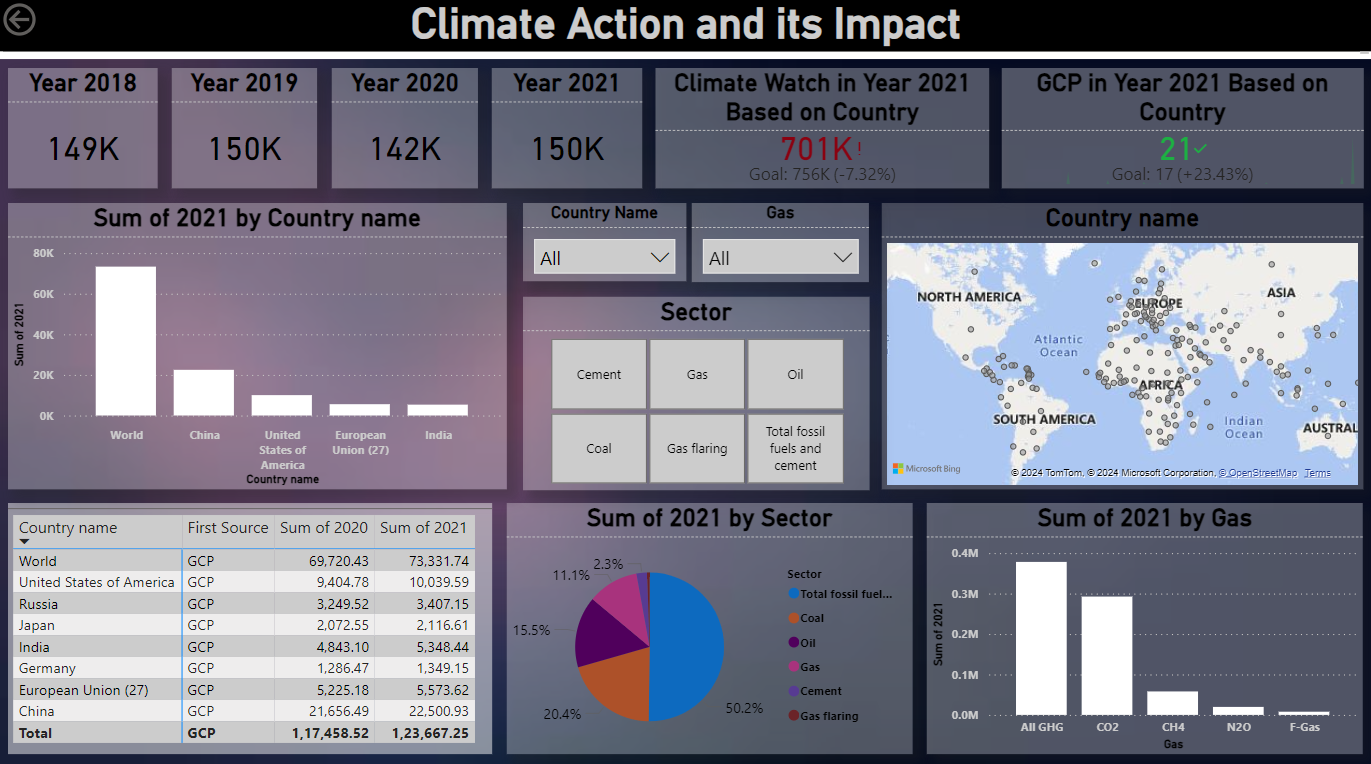

Layout of this report page (visuals, bound fields, positions):
{"tool":"powerbi","page":{"name":"Page 1","canvas":[1280,720],"ordinal":0},"visuals":[{"type":"card","title":"Year 2018","fields":{"Values":["Sum(GCP.2018)"]},"box":[9.4,65.5,139.3,112.2],"z":0},{"type":"card","title":"Year 2019","fields":{"Values":["Sum(GCP.2019)"]},"box":[162.1,65.5,135.1,112.2],"z":1000},{"type":"card","title":"Year 2020","fields":{"Values":["Sum(GCP.2020)"]},"box":[310.7,65.5,136.1,112.2],"z":2000},{"type":"card","title":"Year 2021","fields":{"Values":["Sum(GCP.2021)"]},"box":[459.4,65.5,140.3,112.2],"z":3000},{"type":"map","fields":{"Category":["GCP.Country name"]},"box":[822.1,191.2,447.9,266.1],"z":4000},{"type":"slicer","title":"Country Name","fields":{"Values":["GCP.Country name"]},"box":[488.5,190.2,151.7,72.7],"z":5000},{"type":"slicer","title":"Sector","fields":{"Values":["GCP.Sector"]},"box":[488.5,277.5,322.2,179.8],"z":6000},{"type":"textbox","title":"Climate  Action and its Impact","box":[0,0,1280.2,57],"z":7000},{"type":"pieChart","fields":{"Category":["GCP.Sector"],"Y":["Sum(GCP.2021)"]},"box":[472.9,469.7,377.3,233.8],"z":8000},{"type":"pivotTable","fields":{"Rows":["GCP.Country name"],"Values":["Min(GCP.Source)","Sum(GCP.2020)","Sum(GCP.2021)"]},"box":[9.4,469.7,450,233.8],"z":9000},{"type":"actionButton","box":[0,0,100,40],"z":10000},{"type":"columnChart","fields":{"Category":["climate watch.Gas"],"Y":["Sum(climate watch.2021)"]},"box":[864,469.8,405.8,233.7],"z":11000},{"type":"columnChart","fields":{"Category":["GCP.Country name"],"Y":["Sum(GCP.2021)"]},"box":[9.3,190.7,464,266.3],"z":12000},{"type":"kpi","title":"Climate Watch in Year 2021 Based on Country","fields":{"Indicator":["Sum(climate watch.2011)"],"TrendLine":["GCP.Country name"],"Goal":["Sum(climate watch.2021)"]},"box":[612.1,65.5,310.7,112.2],"z":13000},{"type":"kpi","title":"GCP in Year 2021 Based on Country","fields":{"Indicator":["Sum(GCP.2011)"],"TrendLine":["GCP.Country name"],"Goal":["Sum(GCP.2021)"]},"box":[933.3,65.5,336.7,112.2],"z":14000},{"type":"slicer","title":"Gas","fields":{"Values":["climate watch.Gas"]},"box":[645.4,190.7,165.1,73.3],"z":15000}]}

Visuals, with their boxes in screenshot pixels (x1, y1, x2, y2), scaled from the page's 1280x720 canvas onto the 1371x764 screenshot:
"Year 2018" card: <box>10,70,159,189</box>
"Year 2019" card: <box>174,70,318,189</box>
"Year 2020" card: <box>333,70,479,189</box>
"Year 2021" card: <box>492,70,642,189</box>
map - GCP.Country name: <box>881,203,1360,485</box>
"Country Name" slicer: <box>523,202,686,279</box>
"Sector" slicer: <box>523,294,868,485</box>
"Climate  Action and its Impact" textbox: <box>0,0,1370,60</box>
pieChart - GCP.Sector x Sum(GCP.2021): <box>507,498,911,746</box>
pivotTable - GCP.Country name x Min(GCP.Source): <box>10,498,492,746</box>
actionButton: <box>0,0,107,42</box>
columnChart - climate watch.Gas x Sum(climate watch.2021): <box>925,499,1360,746</box>
columnChart - GCP.Country name x Sum(GCP.2021): <box>10,202,507,485</box>
"Climate Watch in Year 2021 Based on Country" kpi: <box>656,70,988,189</box>
"GCP in Year 2021 Based on Country" kpi: <box>1000,70,1360,189</box>
"Gas" slicer: <box>691,202,868,280</box>
